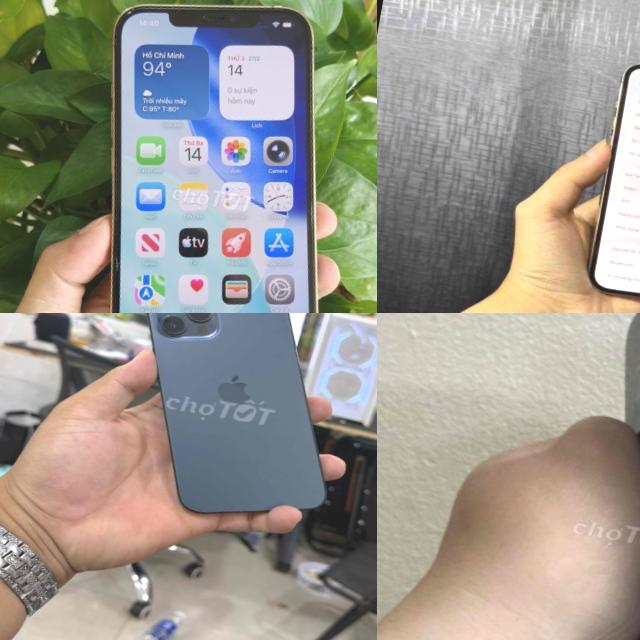gen_12_13: (47, 0, 377, 313), (106, 313, 363, 538), (571, 49, 640, 313)
gen_15: (522, 313, 640, 640)
